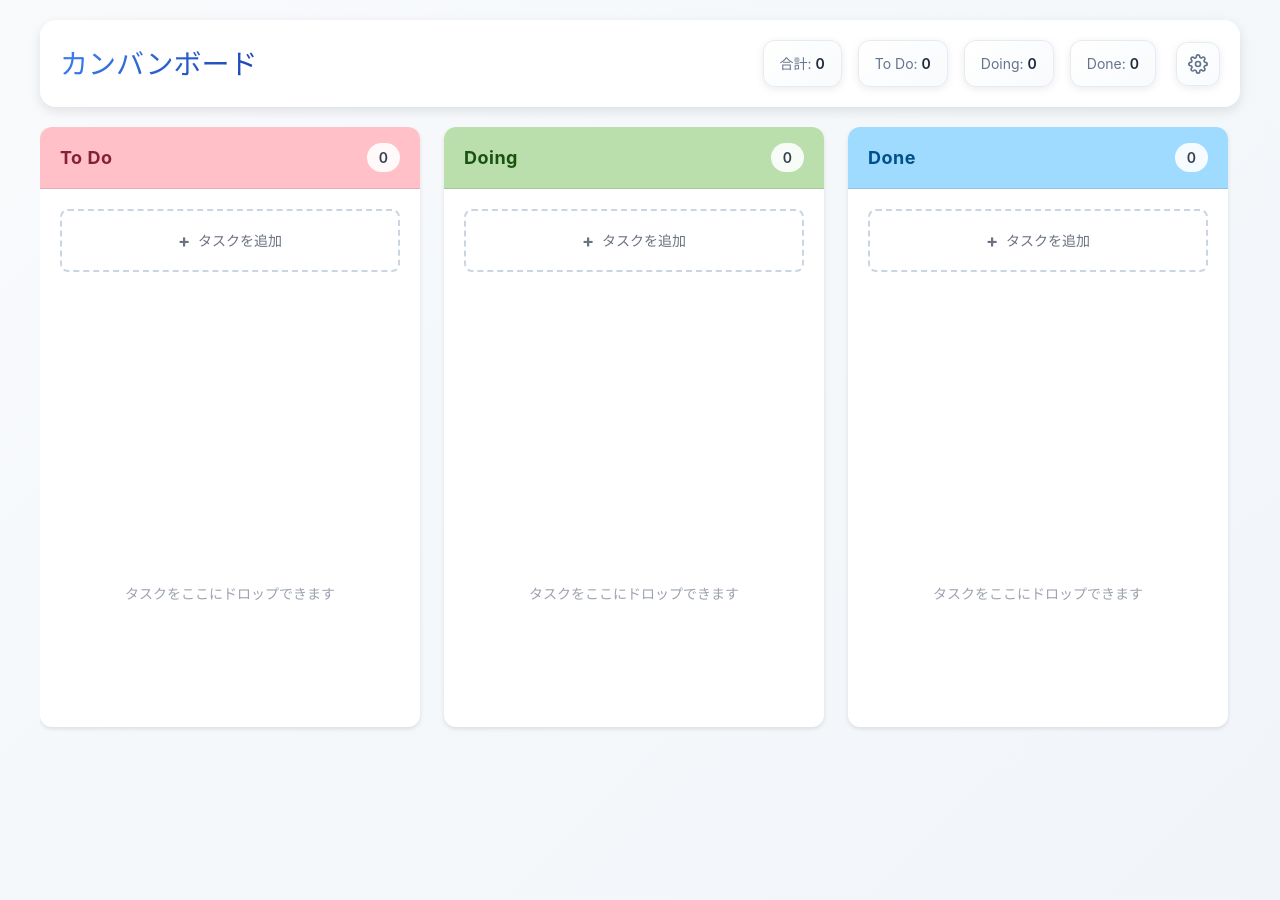
Test case: KanbanBoard Settings Button › should open status settings modal when settings button is clicked
// Click settings button
What coordinates should you click on to do the following:
click the button with test id "settings-button"
I would click on:
 (1198, 64)
Its box is [1176, 42, 1220, 86].
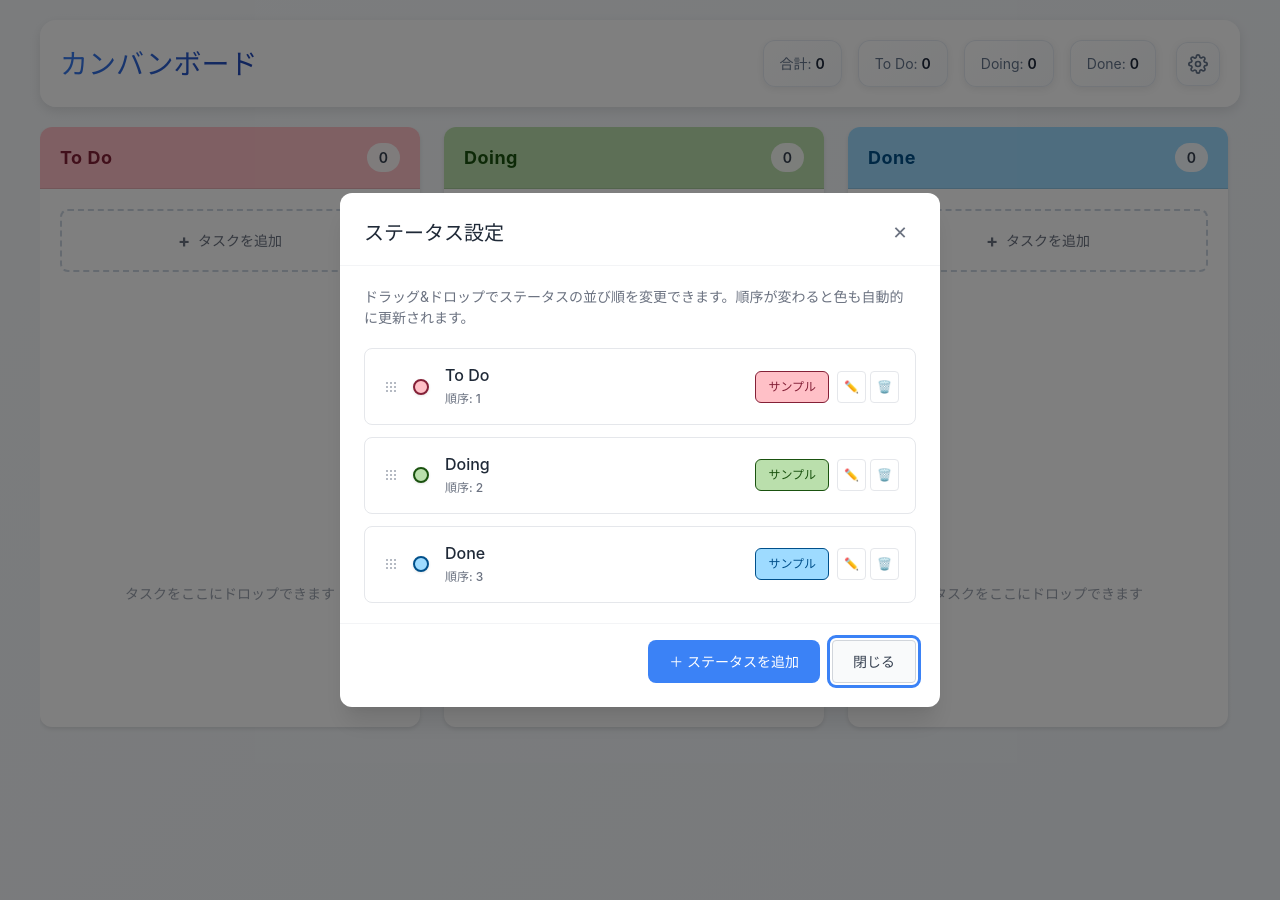
expect the dialog with test id "status-settings-modal" is shown: met
